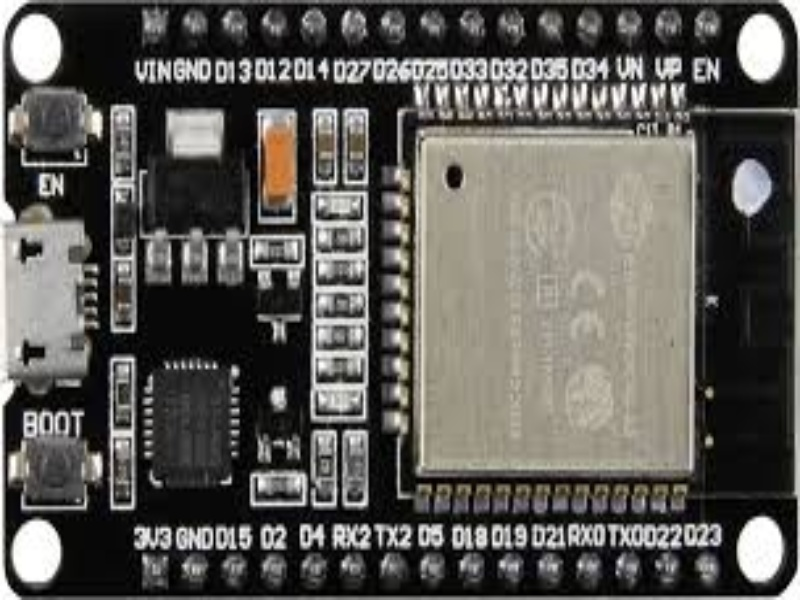esp32: (5, 3, 794, 589)
